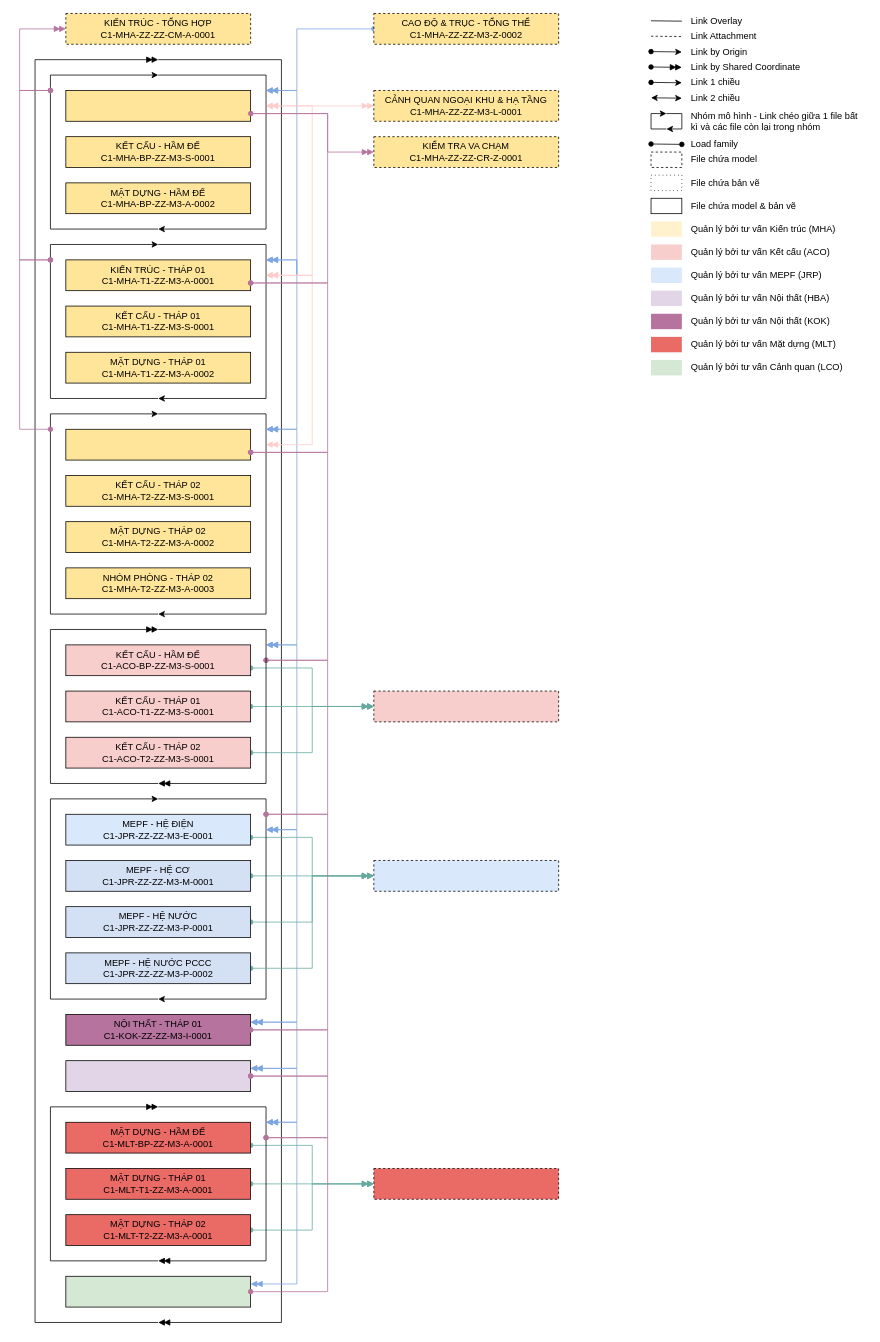
Some shapes in this 880 by 1342 pixel diagram are drawn without their labels. The centre of each missing label's shape, as x and y in pixels:
CẢNH QUAN - TỔNG THỂ C1-LCO-ZZ-ZZ-M3-L-0001: (x=158, y=1291)
KIẾN TRÚC - HẦM ĐẾ C1-MHA-BP-ZZ-M3-A-0001: (x=158, y=105)
KIẾN TRÚC - THÁP 02 C1-MHA-T2-ZZ-M3-A-0001: (x=158, y=444)
KẾT CẤU - TỔNG HỢP C1-ACO-ZZ-ZZ-CM-S-0001: (x=466, y=706)
MEPF - TỔNG HỢP C1-JPR-ZZ-ZZ-CM-Z-0001: (x=466, y=875)
MẶT DỰNG - TỔNG HỢP C1-MLT-ZZ-ZZ-CM-A-0001: (x=466, y=1183)
NỘI THẤT - THÁP 02 C1-HBA-ZZ-ZZ-M3-I-0001: (x=158, y=1075)
